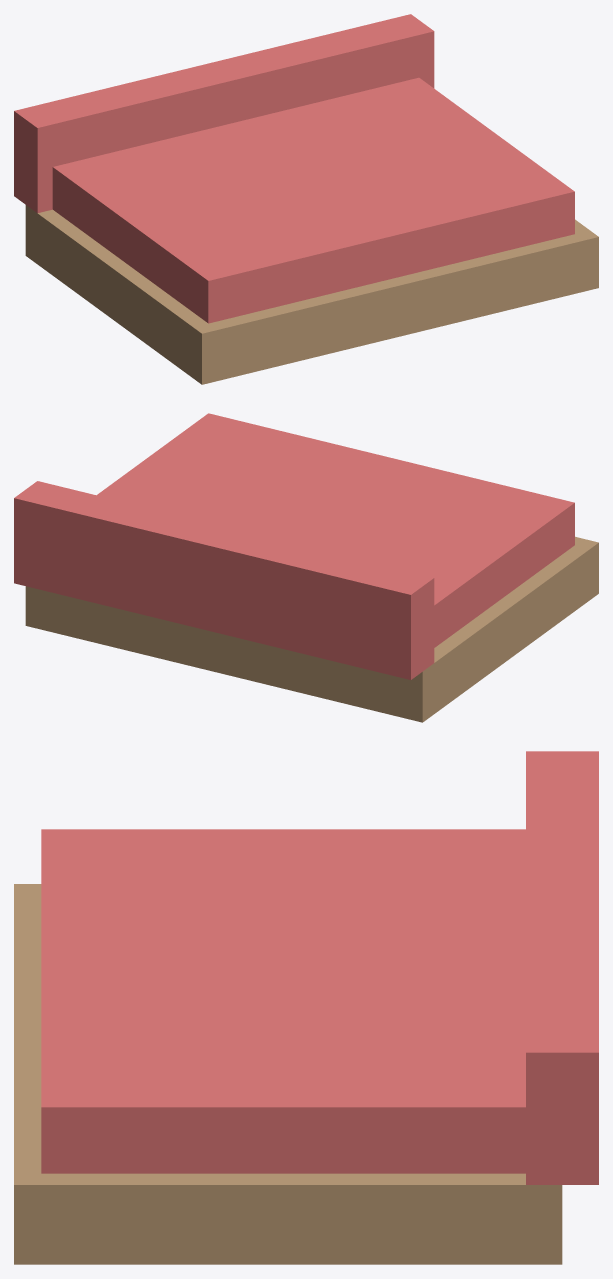
The model's file is Prop_Pet_AMF_Bed_V16.glb.
3 renders of one model, top to bottom at view 1: azimuth 30°, elevation 25°; view 2: azimuth 150°, elevation 25°; view 3: azimuth 270°, elevation 25°, orthographic. The views are drawn at different scales.
Parts seen in each view (by area): view 1: Prop_Pet_AMF_Bed_V16; view 2: Prop_Pet_AMF_Bed_V16; view 3: Prop_Pet_AMF_Bed_V16.
Part boxes in pixels (x1,y1,x2,y2): Prop_Pet_AMF_Bed_V16: [14, 14, 598, 384]; Prop_Pet_AMF_Bed_V16: [14, 413, 598, 722]; Prop_Pet_AMF_Bed_V16: [14, 751, 598, 1264].
Bounding box in the file's own units: 0.975 × 0.32 × 0.8.
